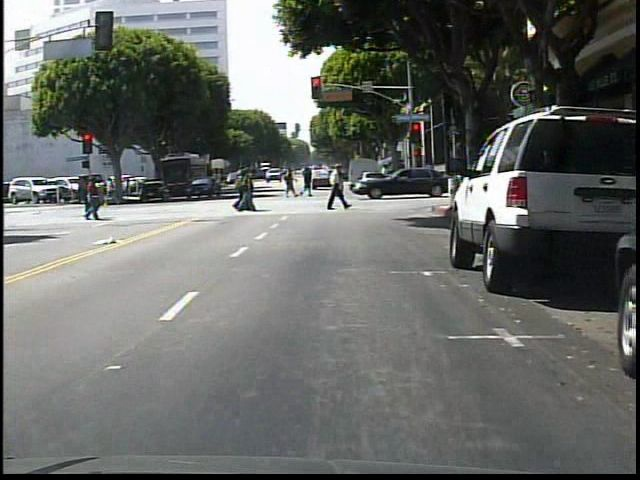person: (325, 160, 350, 214)
